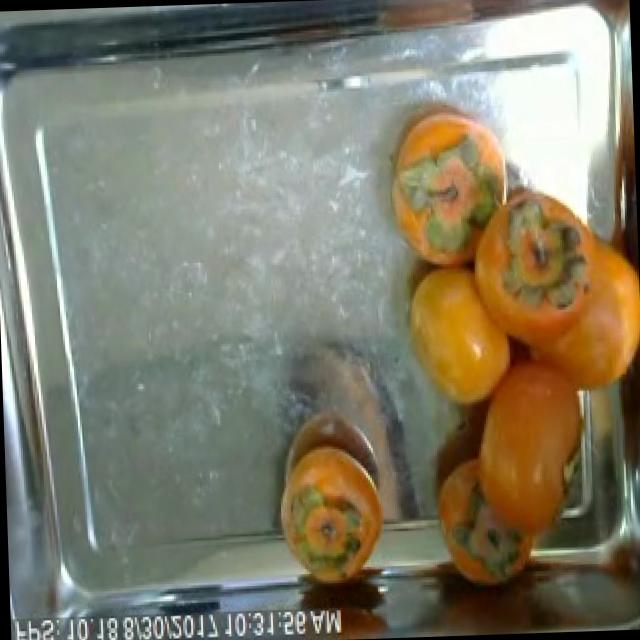Fruit: (266, 430, 394, 600)
